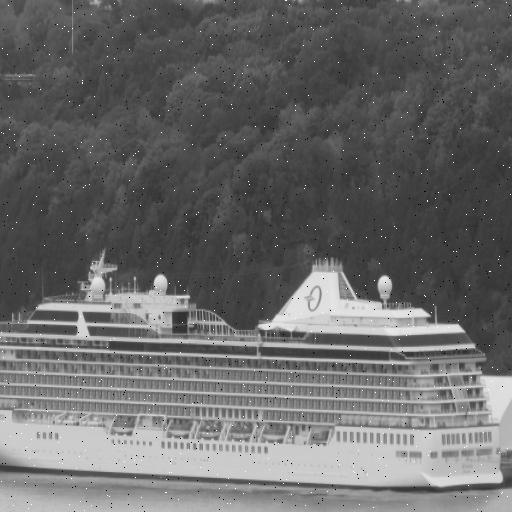cruises: (1, 246, 506, 505)
